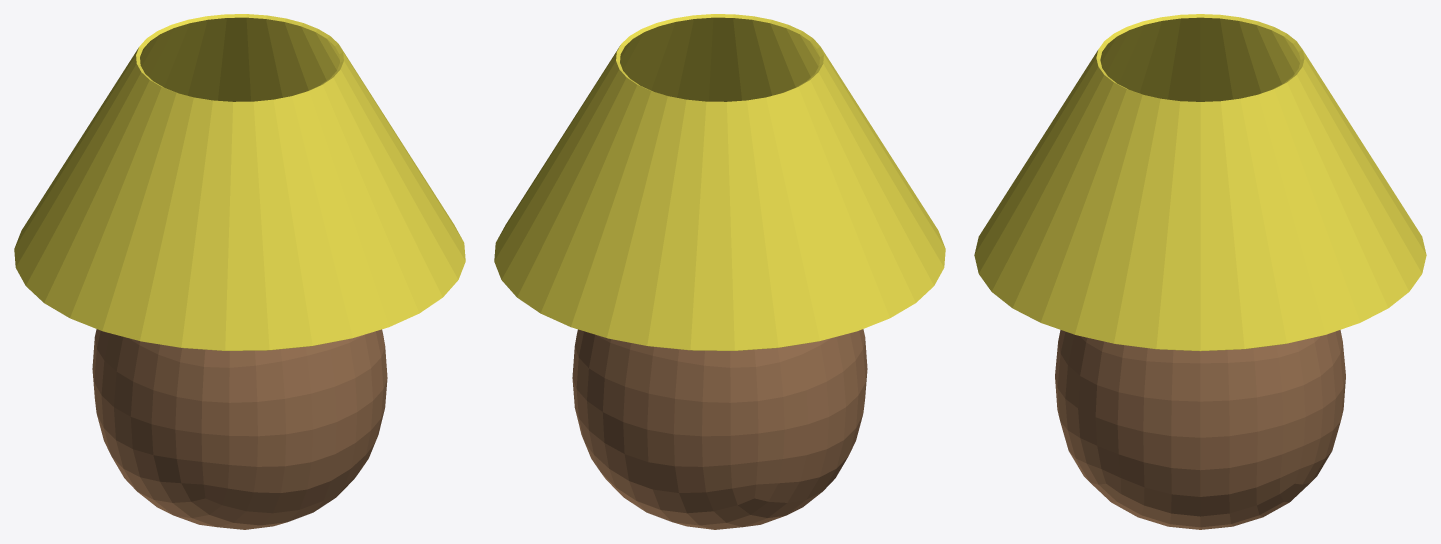
Rendered from lampara-material.fbx.
3 renders of one model, left to right at view 1: azimuth 30°, elevation 25°; view 2: azimuth 150°, elevation 25°; view 3: azimuth 270°, elevation 25°, orthographic.
Parts seen in each view (by area): view 1: Lampara; view 2: Lampara; view 3: Lampara.
Part boxes in pixels (bbox=[...]): Lampara: bbox=[14, 14, 465, 529]; Lampara: bbox=[494, 14, 945, 529]; Lampara: bbox=[974, 14, 1426, 529].
Size of the model in its own units: 31.46 by 34.96 by 31.46.
